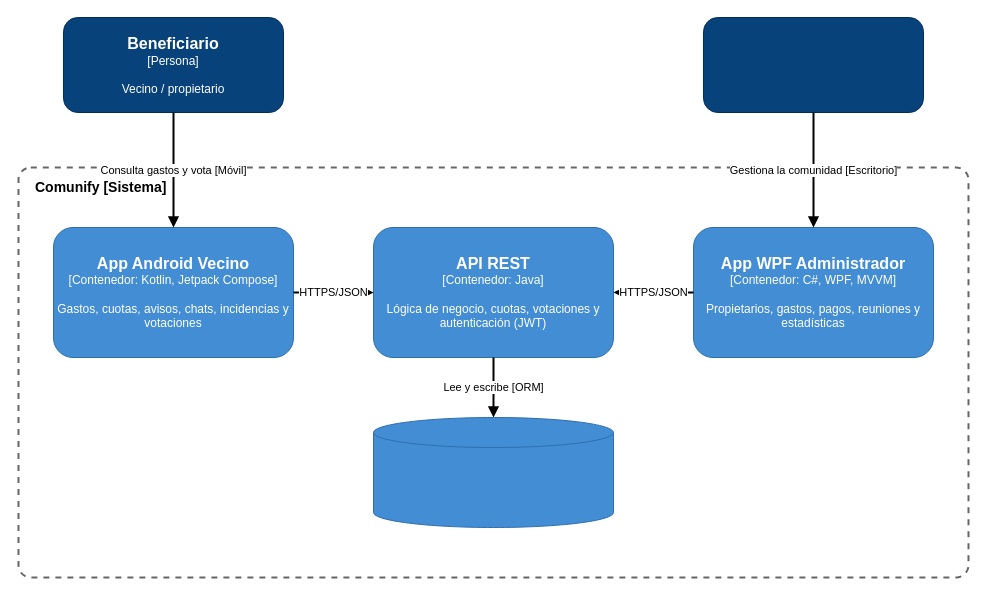
Image size: 986x596. Some labels were removed from this diagram. Here are the shapes that lost their labels. From the top down, the centre of each, then its label:
At pixel 813 64: "Administrador [Persona] Presidente de la comunidad".
At pixel 493 472: "Base de datos [Contenedor: MySQL] Usuarios, gastos, pagos, votos".
